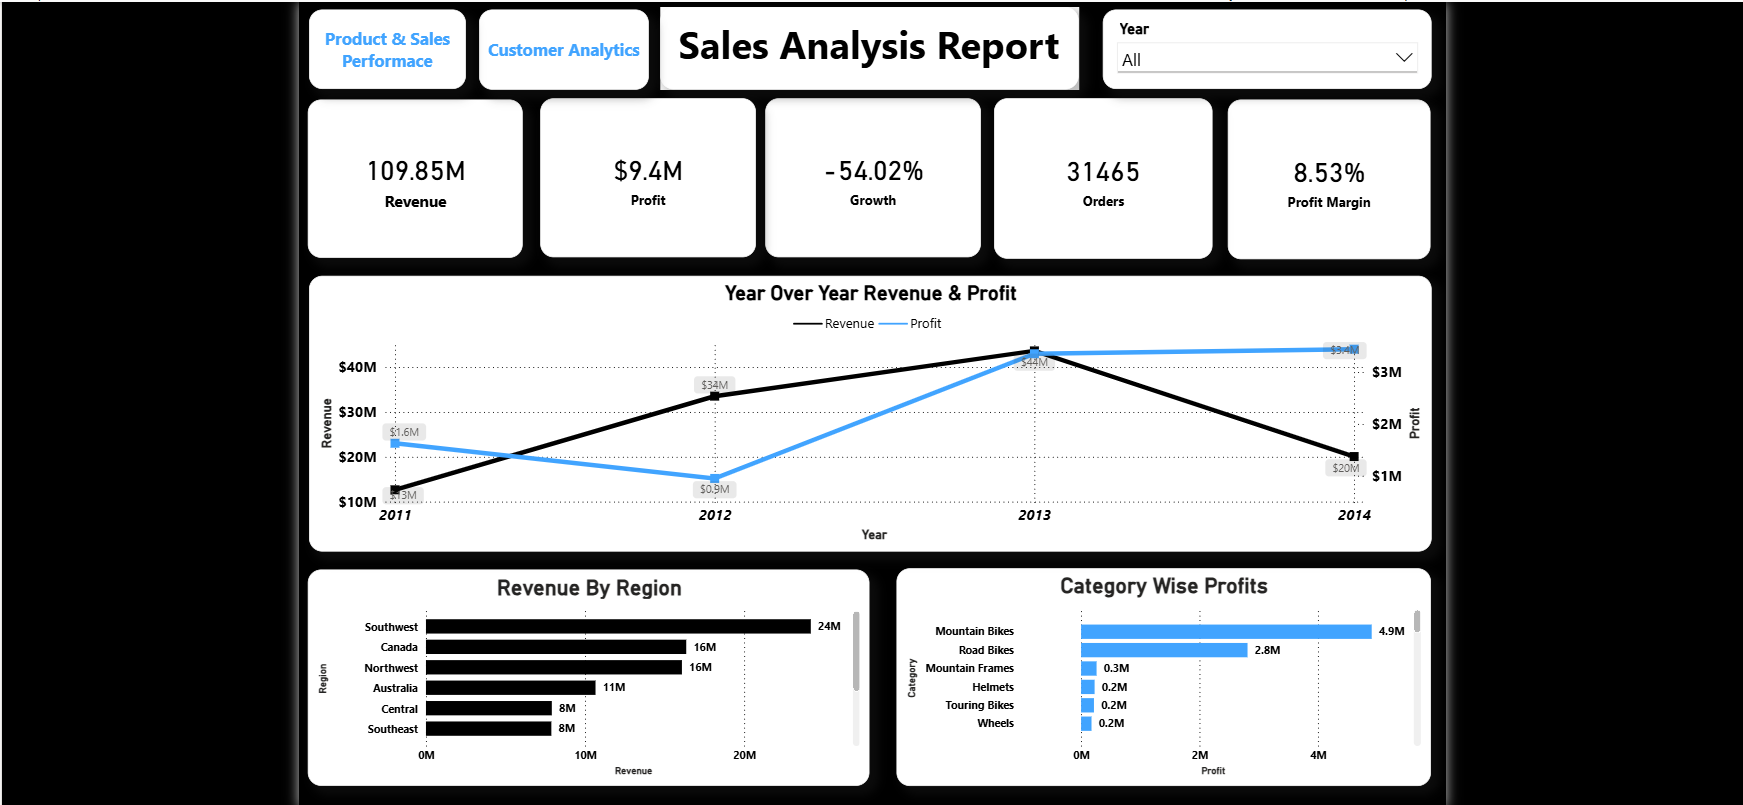

This screenshot's page, from the dashboard's own definition file:
{"tool":"powerbi","page":{"name":"Overview","canvas":[1280,900],"ordinal":0},"visuals":[{"type":"textbox","box":[403.1,5,467.6,92.1],"z":0,"group":"g4"},{"type":"card","fields":{"Values":["calculations.Orders"]},"box":[775.9,107.4,244,179.5],"z":0,"group":"g7"},{"type":"card","fields":{"Values":["calculations.Growth1"]},"box":[521.3,107.7,240.5,177.5],"z":0,"group":"g3"},{"type":"group","id":"g1","title":"Group 1","box":[9.9,108.8,240.3,176.7],"z":0},{"type":"card","fields":{"Values":["Sum(Sales_SalesOrderDetail.LineTotal)"]},"box":[9.9,108.8,240.3,176.7],"z":0,"group":"g6"},{"type":"card","fields":{"Values":["calculations.Profit Margin"]},"box":[1037.4,108.8,226.1,178.1],"z":0,"group":"g2"},{"type":"group","id":"g2","title":"Group 7","box":[1037.4,108.8,226.1,178.1],"z":2000},{"type":"barChart","title":"Category Wise Profits","fields":{"Category":["Production_ProductSubcategory.Name"],"Y":["calculations.Profit"]},"box":[667.1,631.8,596.4,243.1],"z":5000},{"type":"card","fields":{"Values":["calculations.Profit"]},"box":[269.9,107.4,240.5,177.7],"z":7000,"group":"g5"},{"type":"barChart","title":"Revenue By Region","fields":{"Category":["Sales_SalesTerritory.Region"],"Y":["calculations.Revenue"]},"box":[9.9,633.2,627.5,241.7],"z":7000},{"type":"lineChart","title":"Year Over Year Revenue & Profit","fields":{"Category":["DateTable.Year"],"Y":["calculations.Revenue"],"Y2":["calculations.Profit"]},"box":[11.3,305.3,1253.6,308.1],"z":8000},{"type":"group","id":"g3","title":"Group 11","box":[521.3,107.7,240.5,177.5],"z":10000},{"type":"group","id":"g4","title":"Group 4","box":[403.1,5,467.6,92.1],"z":11000},{"type":"group","id":"g5","title":"Group 5","box":[269.9,107.4,240.3,178.1],"z":12000},{"type":"group","id":"g6","title":"Group 6","box":[9.9,108.8,240.3,176.7],"z":13003,"group":"g1"},{"type":"group","id":"g7","title":"Group 12","box":[775.9,107.4,244,179.5],"z":14000},{"type":"slicer","title":"Year","fields":{"Values":["DateTable.Year"]},"box":[897.5,8.5,367.5,89],"z":15000},{"type":"actionButton","box":[201,8.4,189.8,89.3],"z":17000},{"type":"actionButton","box":[11.3,8.5,175.3,89],"z":18000}]}

Visuals, with their boxes on the page's 1280x900 design canvas (x1, y1, x2, y2). These are canvas units, not pixel positions in the 1743x805 screenshot, which may show the page scaled, cropped or inside an application window:
textbox: locate(403, 5, 871, 97)
card - calculations.Orders: locate(776, 107, 1020, 287)
card - calculations.Growth1: locate(521, 108, 762, 285)
"Group 1" group: locate(10, 109, 250, 286)
card - Sum(Sales_SalesOrderDetail.LineTotal): locate(10, 109, 250, 286)
card - calculations.Profit Margin: locate(1037, 109, 1264, 287)
"Group 7" group: locate(1037, 109, 1264, 287)
"Category Wise Profits" barChart: locate(667, 632, 1264, 875)
card - calculations.Profit: locate(270, 107, 510, 285)
"Revenue By Region" barChart: locate(10, 633, 637, 875)
"Year Over Year Revenue & Profit" lineChart: locate(11, 305, 1265, 613)
"Group 11" group: locate(521, 108, 762, 285)
"Group 4" group: locate(403, 5, 871, 97)
"Group 5" group: locate(270, 107, 510, 286)
"Group 6" group: locate(10, 109, 250, 286)
"Group 12" group: locate(776, 107, 1020, 287)
"Year" slicer: locate(898, 8, 1265, 98)
actionButton: locate(201, 8, 391, 98)
actionButton: locate(11, 8, 187, 98)
